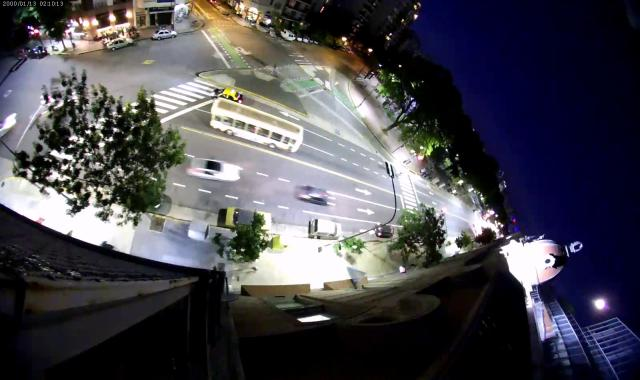bus: (210, 98, 304, 153)
car: (186, 158, 242, 182), (224, 206, 273, 232), (308, 219, 343, 239), (295, 186, 329, 206), (210, 88, 243, 105), (105, 38, 134, 52), (0, 113, 16, 135), (374, 223, 396, 238), (153, 29, 178, 41), (28, 47, 48, 58), (280, 28, 294, 42), (15, 46, 29, 58), (211, 2, 223, 10), (302, 36, 308, 44), (206, 0, 216, 4), (296, 35, 302, 40)
